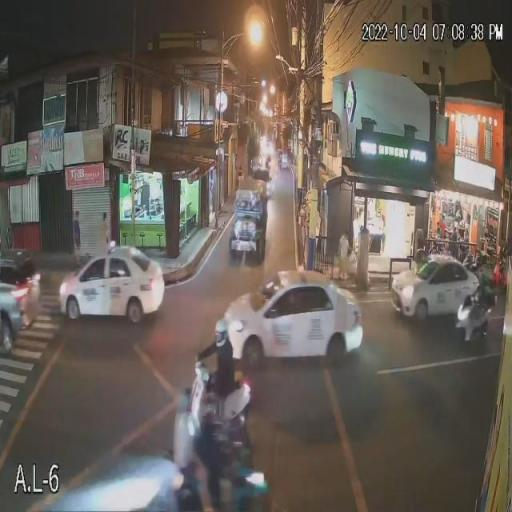helmet: (210, 318, 232, 350), (478, 270, 488, 287)
motorcycle: (171, 384, 256, 460), (455, 304, 493, 344)
rider: (212, 353, 236, 449), (472, 284, 489, 320)
